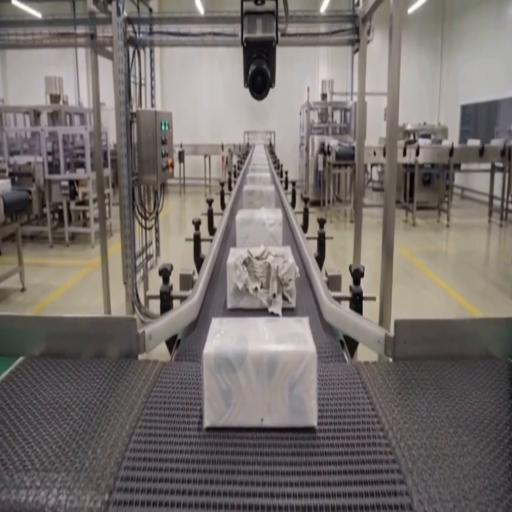defective: (204, 316, 317, 430), (226, 245, 298, 311)
good: (234, 208, 283, 250), (243, 182, 277, 212), (246, 144, 273, 168), (244, 169, 273, 188)
